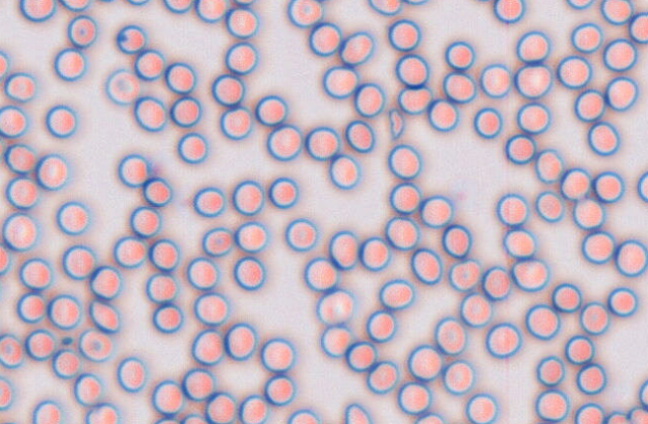PLT: (60, 336, 75, 348)
RBC: (1, 212, 40, 251), (315, 288, 354, 325), (513, 63, 553, 99), (266, 123, 303, 161), (484, 321, 522, 358), (104, 68, 140, 105), (406, 344, 442, 381), (524, 303, 560, 340), (433, 316, 467, 355), (510, 258, 550, 291), (46, 293, 82, 329), (260, 337, 296, 373), (35, 153, 70, 190), (193, 291, 230, 326), (223, 322, 257, 360), (61, 244, 97, 279), (339, 30, 375, 65), (384, 215, 420, 250), (55, 200, 91, 235), (304, 125, 340, 160), (556, 54, 592, 89), (387, 143, 422, 179), (190, 328, 224, 365), (614, 239, 647, 277), (328, 229, 359, 269), (303, 256, 338, 291), (602, 37, 637, 72), (77, 328, 113, 362), (322, 65, 358, 99), (478, 62, 512, 98), (133, 95, 167, 131), (181, 367, 216, 401), (89, 265, 123, 300), (308, 21, 342, 56), (534, 388, 569, 422), (419, 194, 454, 228), (232, 255, 266, 290), (224, 41, 259, 75), (151, 379, 184, 415), (328, 153, 361, 189), (605, 75, 638, 111), (410, 247, 442, 284), (378, 278, 415, 310), (397, 381, 431, 415), (365, 360, 399, 394), (219, 106, 253, 140), (186, 256, 220, 290), (53, 47, 87, 81), (395, 53, 429, 87), (117, 153, 151, 187), (581, 230, 615, 264), (495, 192, 529, 226), (284, 217, 318, 251), (4, 176, 39, 209), (18, 257, 53, 290), (442, 359, 475, 394), (459, 292, 492, 327), (112, 235, 147, 268), (515, 30, 550, 63), (234, 220, 269, 253), (516, 101, 551, 134), (116, 356, 148, 392), (232, 179, 264, 215), (448, 258, 481, 292), (387, 18, 421, 51), (587, 121, 620, 155), (44, 104, 77, 138), (502, 227, 537, 259), (442, 71, 477, 103), (359, 236, 391, 271), (353, 82, 385, 117), (319, 324, 352, 357), (572, 197, 605, 230), (211, 73, 244, 106), (3, 142, 37, 174), (66, 14, 98, 48), (573, 88, 605, 122), (204, 391, 237, 423), (24, 328, 56, 361), (559, 167, 591, 200), (263, 374, 296, 406), (389, 181, 421, 214), (427, 98, 459, 131), (254, 94, 287, 126), (148, 238, 180, 271), (129, 205, 162, 237), (593, 170, 625, 203), (164, 61, 196, 94), (3, 71, 37, 102), (464, 392, 498, 423), (225, 7, 259, 38), (441, 224, 472, 258), (192, 186, 226, 217), (579, 301, 610, 335), (481, 265, 511, 300), (534, 148, 564, 183), (286, 0, 323, 28), (133, 48, 165, 80), (169, 95, 201, 127), (575, 362, 607, 394), (176, 131, 208, 163), (344, 340, 377, 371), (145, 272, 178, 303), (365, 309, 396, 342), (570, 22, 603, 53), (344, 119, 375, 152), (73, 372, 103, 406), (534, 190, 565, 222), (504, 133, 536, 164), (397, 86, 432, 114), (607, 286, 638, 317), (16, 291, 46, 323), (152, 303, 184, 333), (115, 24, 147, 54), (535, 354, 565, 386), (201, 226, 233, 256), (268, 176, 298, 208), (473, 106, 503, 138), (0, 104, 28, 138), (51, 348, 81, 379), (564, 334, 594, 365), (444, 40, 475, 70), (551, 282, 582, 312), (142, 176, 172, 206), (238, 394, 269, 423), (600, 0, 634, 25), (19, 0, 57, 22), (0, 333, 23, 368), (31, 399, 64, 423), (84, 402, 121, 423), (493, 0, 525, 23), (195, 0, 227, 22), (573, 402, 604, 423), (628, 11, 647, 43), (343, 402, 371, 423), (367, 0, 402, 16), (286, 408, 321, 423), (0, 375, 13, 410), (162, 0, 193, 13), (636, 170, 648, 202), (626, 405, 647, 423), (58, 0, 92, 11), (413, 412, 445, 423), (602, 410, 629, 423), (0, 48, 10, 81), (0, 244, 10, 275), (638, 378, 647, 410), (180, 413, 208, 423), (565, 0, 594, 9), (0, 135, 6, 164), (153, 417, 179, 423), (231, 0, 256, 6), (403, 0, 429, 5), (125, 0, 150, 5), (0, 279, 3, 306), (95, 0, 116, 3), (467, 0, 494, 2)
Schistocyte: (88, 300, 122, 335), (388, 109, 404, 140)
